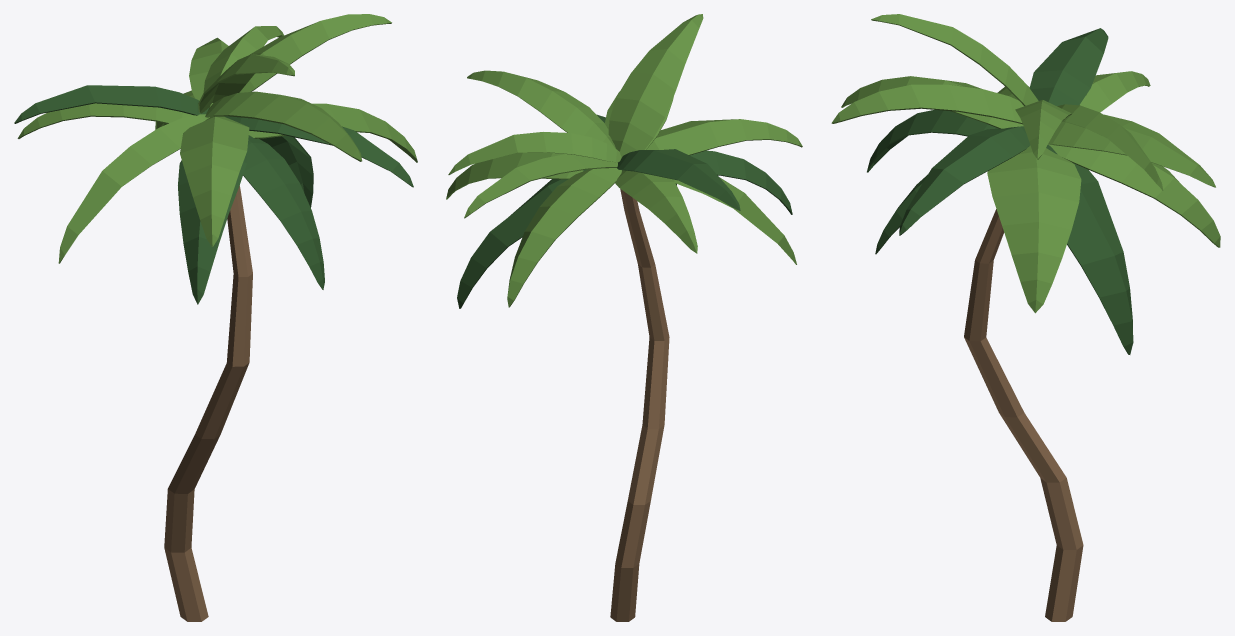
File: palm_palmtree_1.glb
3 renders of one model, left to right at view 1: azimuth 30°, elevation 25°; view 2: azimuth 150°, elevation 25°; view 3: azimuth 270°, elevation 25°, orthographic. The views are drawn at different scales.
Visible parts, largest first — view 1: PalmTree_1_Cylinder.041; view 2: PalmTree_1_Cylinder.041; view 3: PalmTree_1_Cylinder.041.
Part boxes in pixels (x1,y1,x2,y2): PalmTree_1_Cylinder.041: (14,14,417,621); PalmTree_1_Cylinder.041: (446,14,802,621); PalmTree_1_Cylinder.041: (831,14,1220,621).
Size of the model in its own units: 5.79 by 9 by 5.25.
